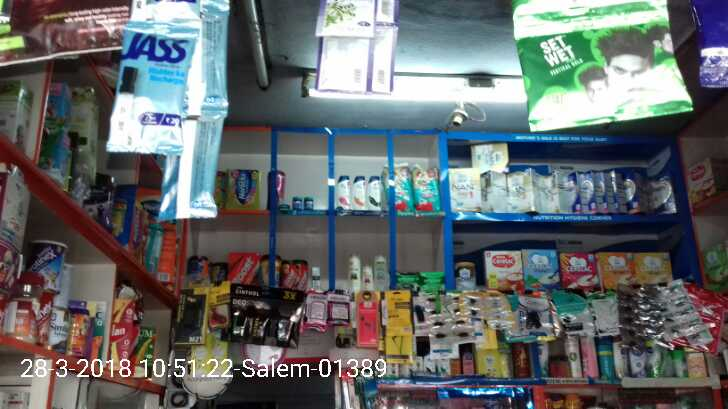vicks: (283, 197, 316, 213)
